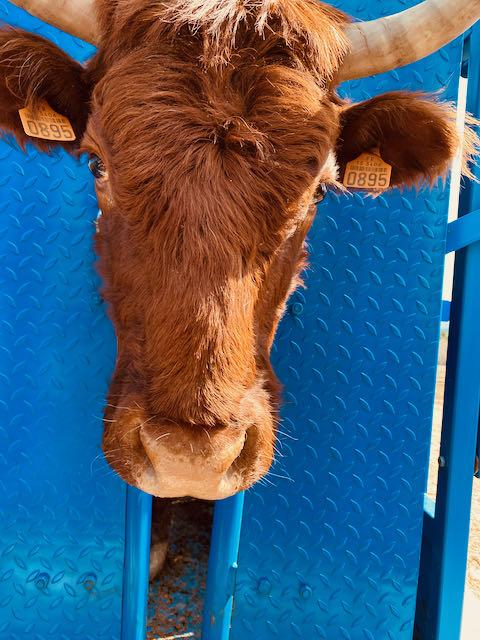muzzles: (85, 392, 293, 508)
